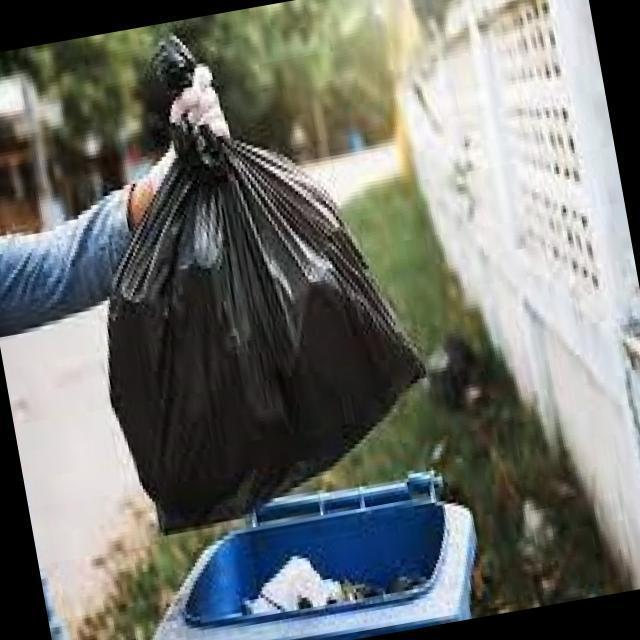garbage: (43, 0, 449, 548), (215, 544, 364, 624)
